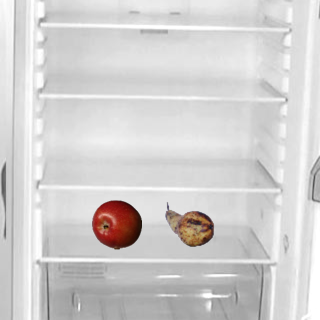Apple Braeburn: (91, 199, 141, 249)
Pear Abate: (164, 199, 214, 249)
